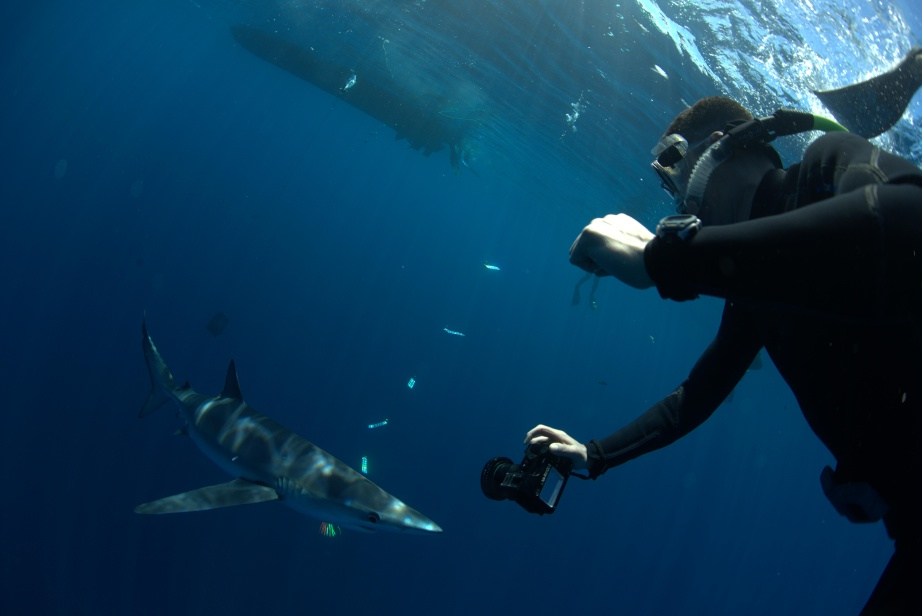Azul: (112, 313, 447, 559)
